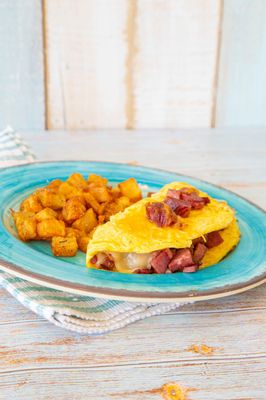soup: (86, 181, 242, 275)
